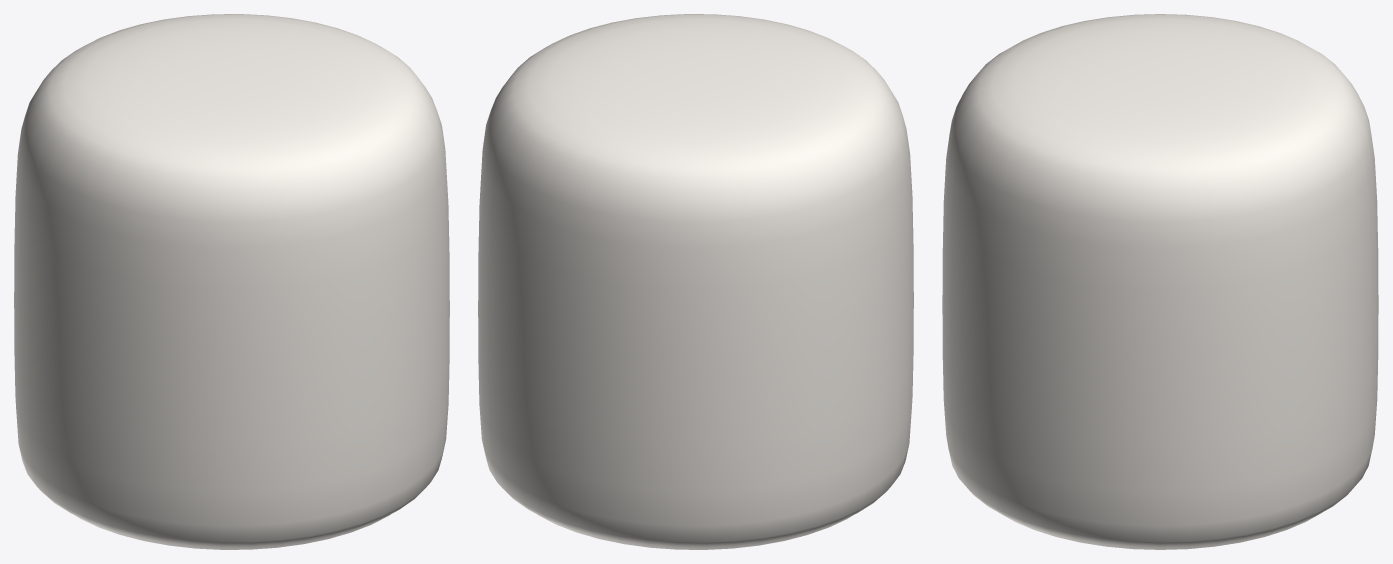
File: marshmallow.glb
The picture shows the model from 3 angles, left to right: view 1: azimuth 30°, elevation 25°; view 2: azimuth 150°, elevation 25°; view 3: azimuth 270°, elevation 25°; orthographic projection.
Parts seen in each view (by area): view 1: marshmallow; view 2: marshmallow; view 3: marshmallow.
Boxes of the visible parts, bbox=[...] form: marshmallow: bbox=[14, 14, 449, 549]; marshmallow: bbox=[478, 14, 913, 549]; marshmallow: bbox=[942, 14, 1378, 549].
Size of the model in its own units: 1.19 by 1.2 by 1.19.
1 material, 1 textured.
